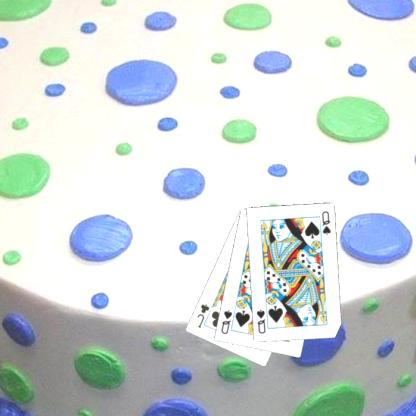JC: (196, 301, 212, 330)
QS: (220, 307, 235, 335), (320, 209, 334, 236), (255, 307, 268, 335)
